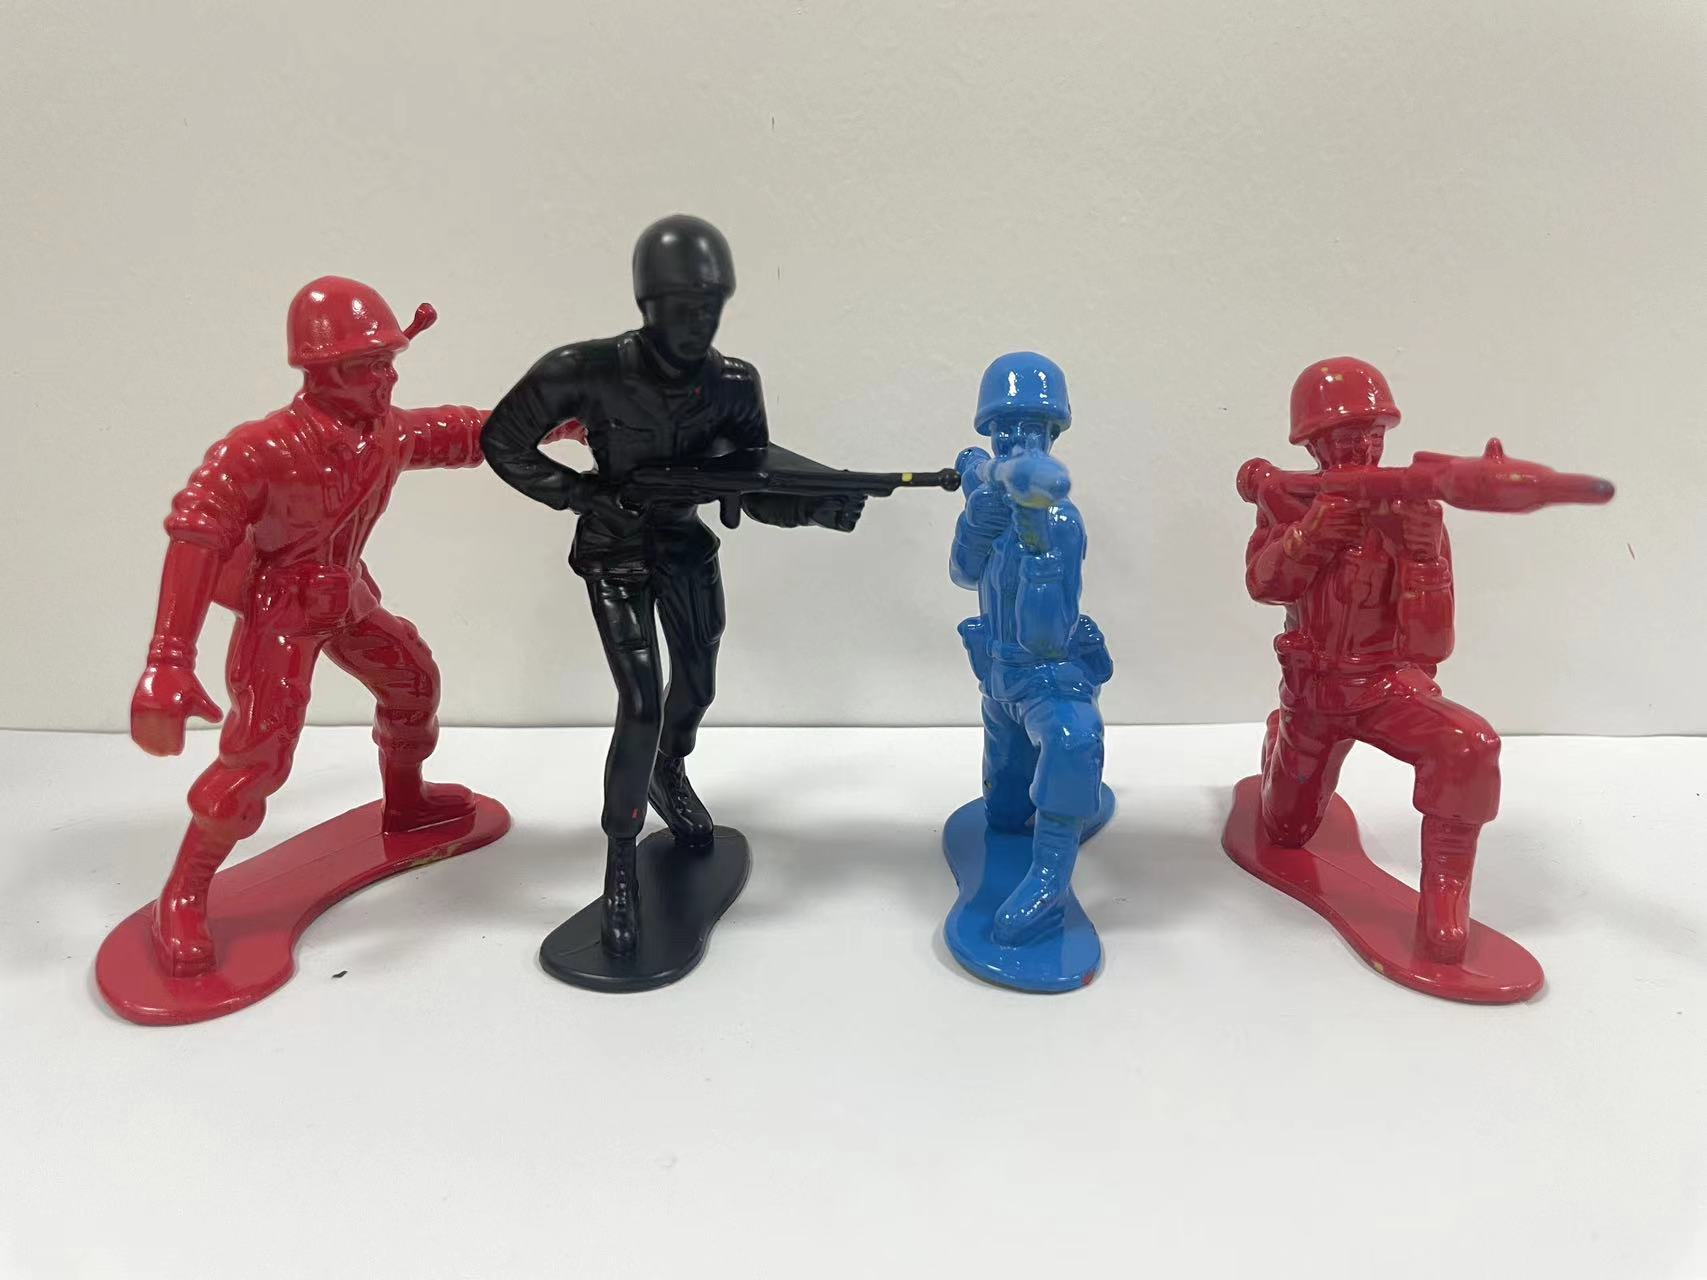black: (484, 204, 884, 1058)
blue: (887, 272, 1177, 1038)
red: (1218, 321, 1641, 1077), (97, 259, 481, 1072)
